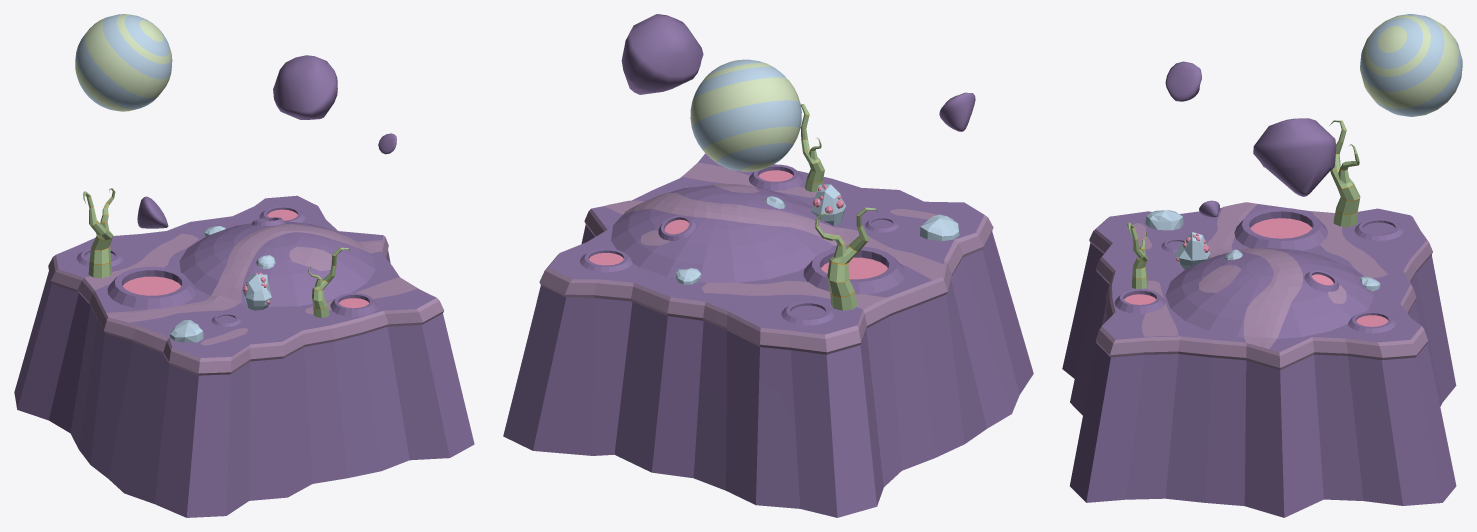
Rendered from Island_8.glb.
3 views of the same model, side by side, from view 1: azimuth 30°, elevation 25°; view 2: azimuth 150°, elevation 25°; view 3: azimuth 270°, elevation 25° (orthographic). The views are drawn at different scales.
Visible parts, largest first — view 1: Isl8_Base, Isl8_Planet_1, Isl8_Flying_Stone_2, Isl8_Tree_2, Isl8_Crystal_1, Isl8_Tree_1, Isl8_Flying_Stone_1, Isl8_Stone_1; view 2: Isl8_Base, Isl8_Planet_1, Isl8_Flying_Stone_2, Isl8_Tree_2, Isl8_Crystal_1, Isl8_Flying_Stone_1, Isl8_Tree_1, Isl8_Stone_1; view 3: Isl8_Base, Isl8_Planet_1, Isl8_Flying_Stone_2, Isl8_Tree_2, Isl8_Flying_Stone_1, Isl8_Crystal_1, Isl8_Tree_1, Isl8_Stone_1.
Boxes of the visible parts, box(x1,y1,x2,y2) form: Isl8_Base: box(14, 195, 474, 517); Isl8_Planet_1: box(75, 14, 172, 111); Isl8_Flying_Stone_2: box(273, 55, 337, 119); Isl8_Tree_2: box(83, 188, 115, 278); Isl8_Crystal_1: box(243, 272, 271, 310); Isl8_Tree_1: box(308, 247, 350, 317); Isl8_Flying_Stone_1: box(137, 196, 168, 228); Isl8_Stone_1: box(170, 320, 203, 342); Isl8_Base: box(503, 153, 1033, 517); Isl8_Planet_1: box(690, 59, 801, 171); Isl8_Flying_Stone_2: box(621, 14, 703, 94); Isl8_Tree_2: box(815, 207, 877, 310); Isl8_Crystal_1: box(811, 184, 845, 225); Isl8_Flying_Stone_1: box(939, 92, 975, 131); Isl8_Tree_1: box(800, 104, 824, 191); Isl8_Stone_1: box(920, 214, 959, 241); Isl8_Base: box(1062, 202, 1456, 517); Isl8_Planet_1: box(1360, 14, 1462, 116); Isl8_Flying_Stone_2: box(1253, 118, 1336, 196); Isl8_Tree_2: box(1329, 120, 1360, 227); Isl8_Flying_Stone_1: box(1165, 61, 1201, 101); Isl8_Crystal_1: box(1175, 232, 1210, 269); Isl8_Tree_1: box(1127, 222, 1148, 288); Isl8_Stone_1: box(1145, 210, 1183, 230).
Size of the model in its own units: 22.96 by 23.18 by 21.99.
Materials: 1 (1 with a texture image).
